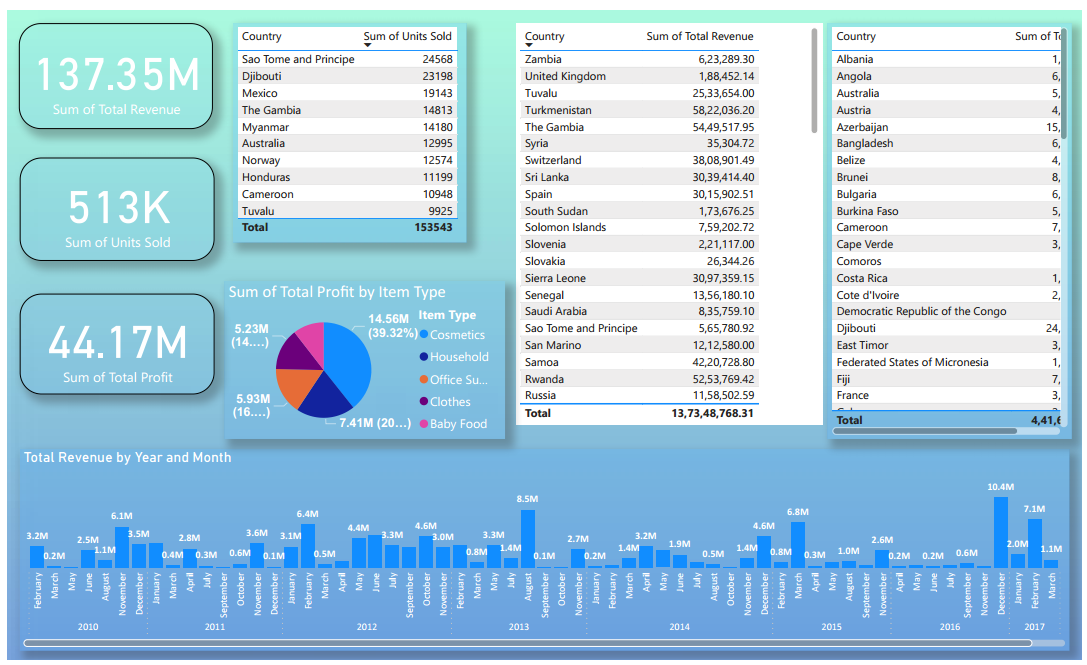

Layout of this report page (visuals, bound fields, positions):
{"tool":"powerbi","page":{"name":"Summary","canvas":[1280,773],"ordinal":3},"visuals":[{"type":"card","fields":{"Values":["Sum(Amazone_sales_data.Total Revenue)"]},"box":[13.9,15.2,231.3,126.1],"z":0},{"type":"card","fields":{"Values":["Sum(Amazone_sales_data.Units Sold)"]},"box":[15.2,174.5,231.3,123.3],"z":1000},{"type":"card","fields":{"Values":["Sum(Amazone_sales_data.Total Profit)"]},"box":[15.2,336.6,231.3,120.5],"z":2000},{"type":"clusteredColumnChart","title":"Total Revenue by Year and Month","fields":{"Category":["Amazone_sales_data.Ship Date.Variation.Date Hierarchy.Year","Amazone_sales_data.Ship Date.Variation.Date Hierarchy.Month"],"Y":["Sum(Amazone_sales_data.Total Revenue)"]},"box":[15.2,522.3,1249.5,239.7],"z":3000},{"type":"tableEx","title":"Top 10 Countries by Units Sold","fields":{"Values":["Amazone_sales_data.Country","Sum(Amazone_sales_data.Units Sold)"]},"box":[268.7,15.2,282.6,260.4],"z":4000},{"type":"tableEx","title":"Top 10 Countries by Total Sales","fields":{"Values":["Amazone_sales_data.Country","Sum(Amazone_sales_data.Total Revenue)"]},"box":[617.8,16.6,310.3,493.2],"z":5000},{"type":"tableEx","title":"Top 10 Countries by Total Profit","fields":{"Values":["Amazone_sales_data.Country","Sum(Amazone_sales_data.Total Profit)"]},"box":[933.7,15.2,331.1,494.6],"z":6000},{"type":"pieChart","fields":{"Category":["Amazone_sales_data.Item Type"],"Y":["Sum(Amazone_sales_data.Total Profit)"]},"box":[259.1,286.8,343.6,223],"z":7000}]}

Visuals, with their boxes in screenshot pixels (x1, y1, x2, y2), scaled from the page's 1280x773 canvas onto the 1087x665 screenshot:
card - Sum(Amazone_sales_data.Total Revenue): (12,13,208,122)
card - Sum(Amazone_sales_data.Units Sold): (13,150,209,256)
card - Sum(Amazone_sales_data.Total Profit): (13,290,209,393)
"Total Revenue by Year and Month" clusteredColumnChart: (13,449,1074,656)
"Top 10 Countries by Units Sold" tableEx: (228,13,468,237)
"Top 10 Countries by Total Sales" tableEx: (525,14,788,439)
"Top 10 Countries by Total Profit" tableEx: (793,13,1074,439)
pieChart - Amazone_sales_data.Item Type x Sum(Amazone_sales_data.Total Profit): (220,247,512,439)
